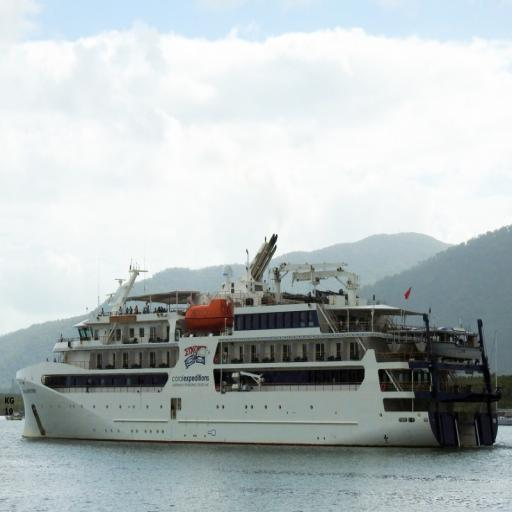cruises: (16, 238, 505, 462)
